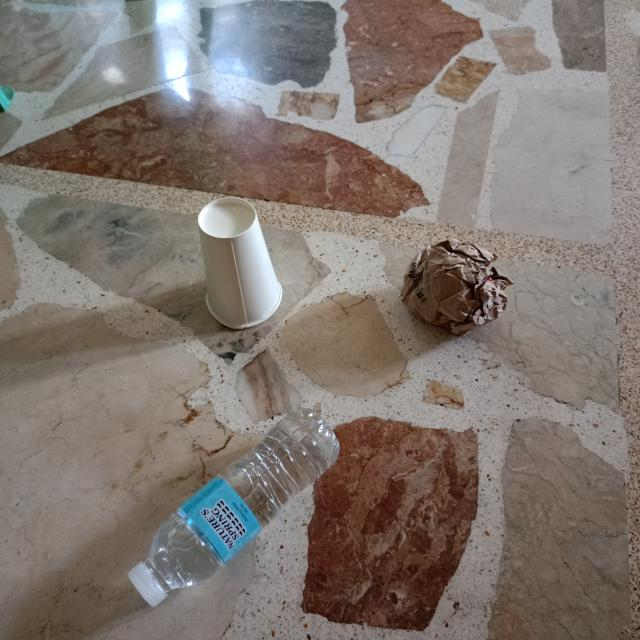Anorganik: (112, 393, 352, 618)
Organik: (184, 190, 293, 335), (396, 230, 520, 344)
